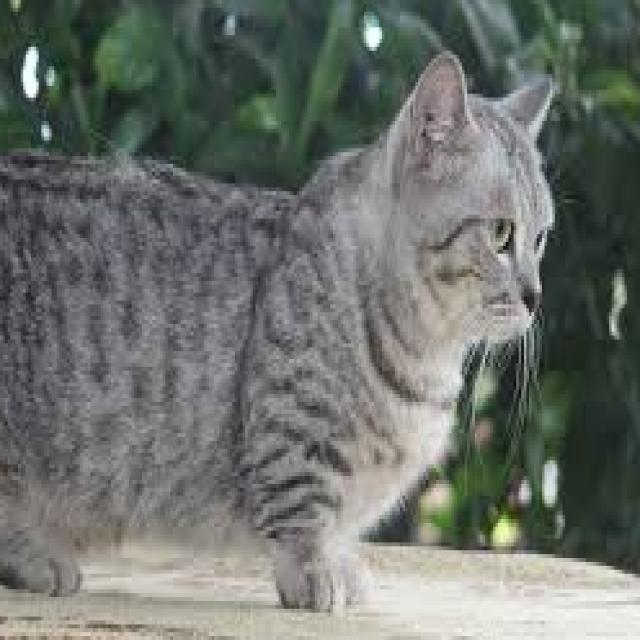Munchkin: (0, 43, 560, 617)
